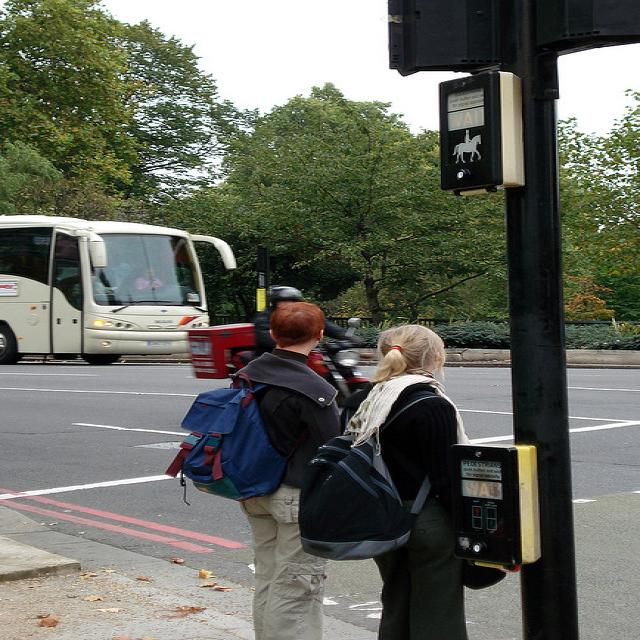motor: (306, 341, 370, 395)
